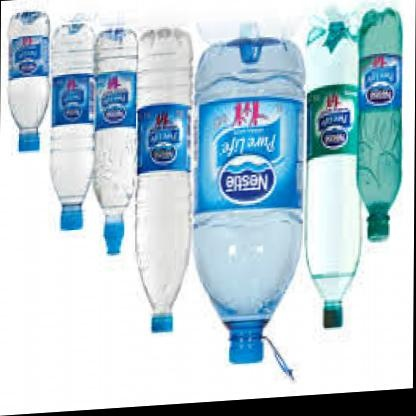trash: (194, 37, 303, 362), (305, 19, 360, 328), (136, 28, 191, 331), (358, 8, 401, 239), (94, 28, 136, 254), (50, 18, 94, 229), (8, 11, 48, 151)
